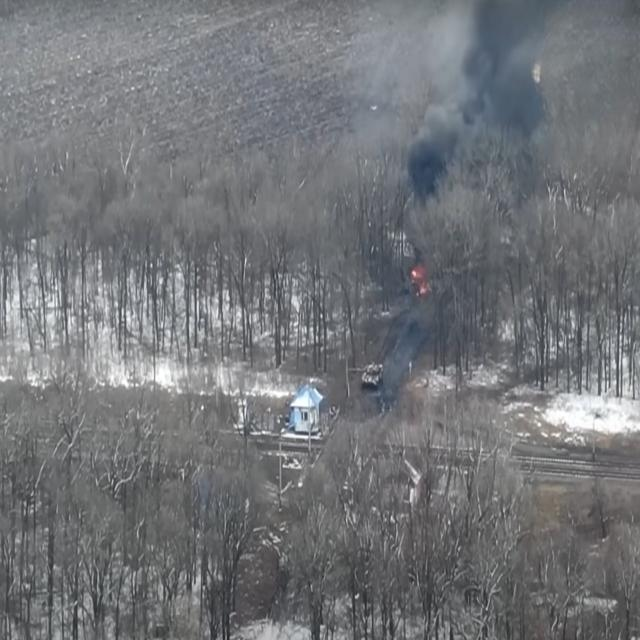MBT: (347, 358, 386, 393)
